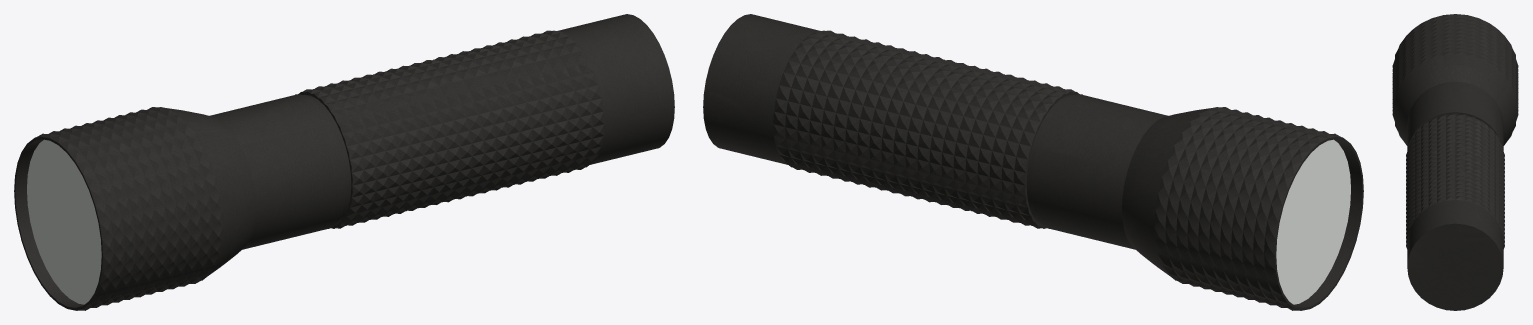
The model's file is Flashlight.fbx.
3 views of the same model, side by side, from view 1: azimuth 30°, elevation 25°; view 2: azimuth 150°, elevation 25°; view 3: azimuth 270°, elevation 25° (orthographic). The views are drawn at different scales.
Visible parts, largest first — view 1: Flashlight; view 2: Flashlight; view 3: Flashlight.
Part boxes in pixels (<box>): Flashlight: <box>14,14,674,310</box>; Flashlight: <box>703,14,1363,310</box>; Flashlight: <box>1392,14,1518,310</box>.
Bounding box in the file's own units: 250 × 67.38 × 67.38.
Materials: 2 (1 with a texture image).
